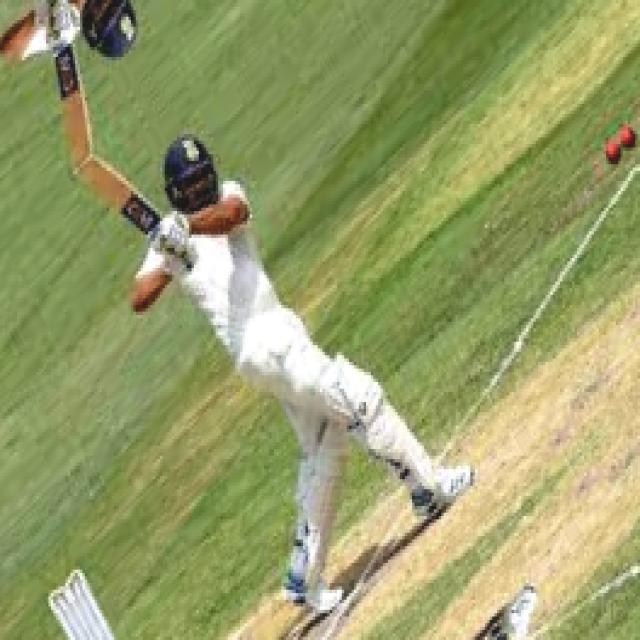toe: (69, 156, 114, 192)
